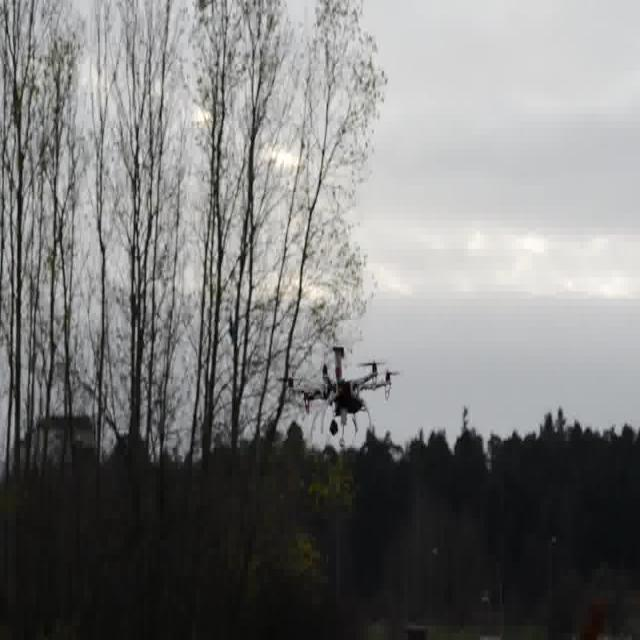drone: (275, 344, 401, 439)
